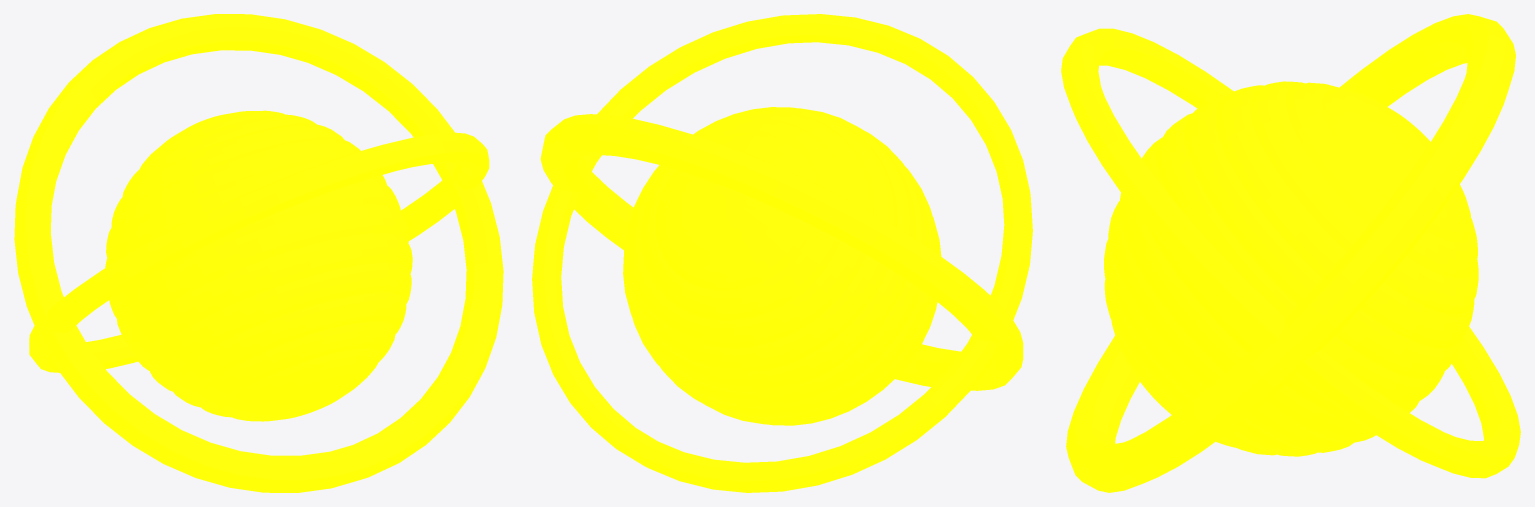
The model's file is planet_22.glb.
3 renders of one model, left to right at view 1: azimuth 30°, elevation 25°; view 2: azimuth 150°, elevation 25°; view 3: azimuth 270°, elevation 25°, orthographic. The views are drawn at different scales.
Parts seen in each view (by area): view 1: Sphere.008; view 2: Sphere.008; view 3: Sphere.008.
Part boxes in pixels (x1,y1,x2,y2): Sphere.008: [14, 14, 503, 492]; Sphere.008: [532, 14, 1032, 492]; Sphere.008: [1061, 14, 1520, 492].
Size of the model in its own units: 3.82 by 2.85 by 2.84.
1 material, 1 textured.
